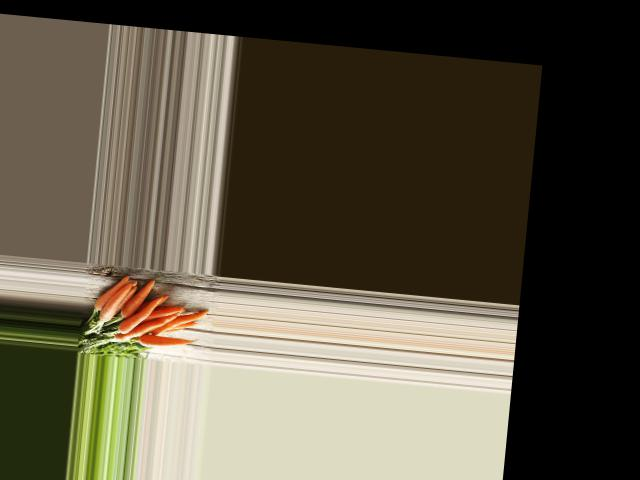carrot: (139, 332, 194, 355)
